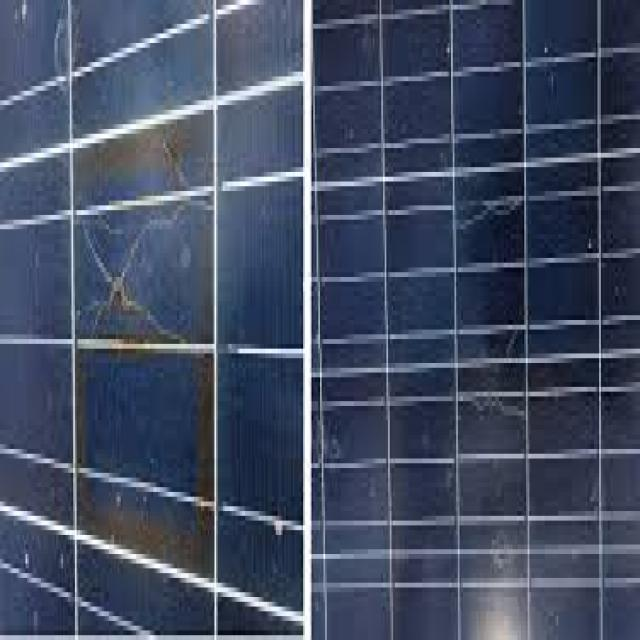faulty: (320, 0, 638, 640), (0, 0, 309, 621)
